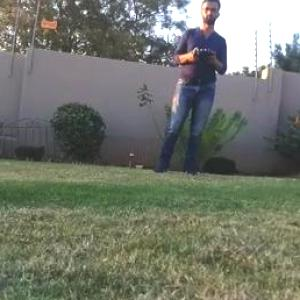follow: (146, 0, 231, 182)
